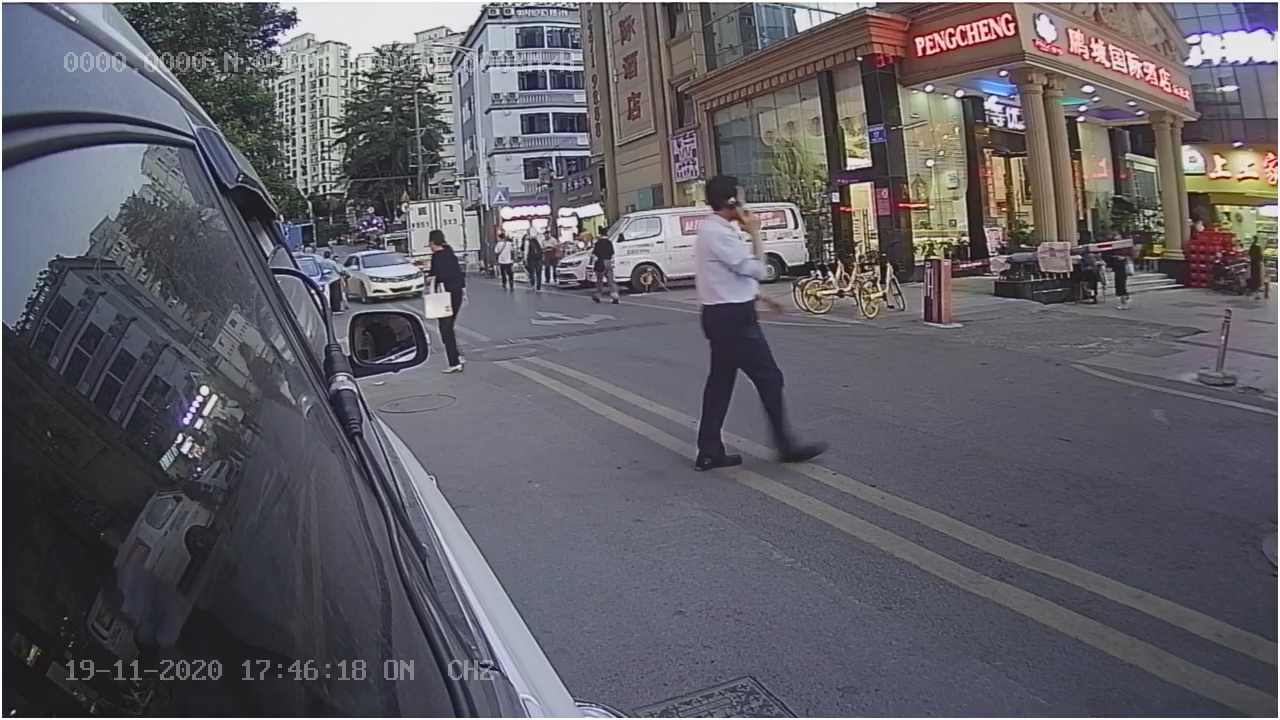person: (683, 173, 830, 474)
